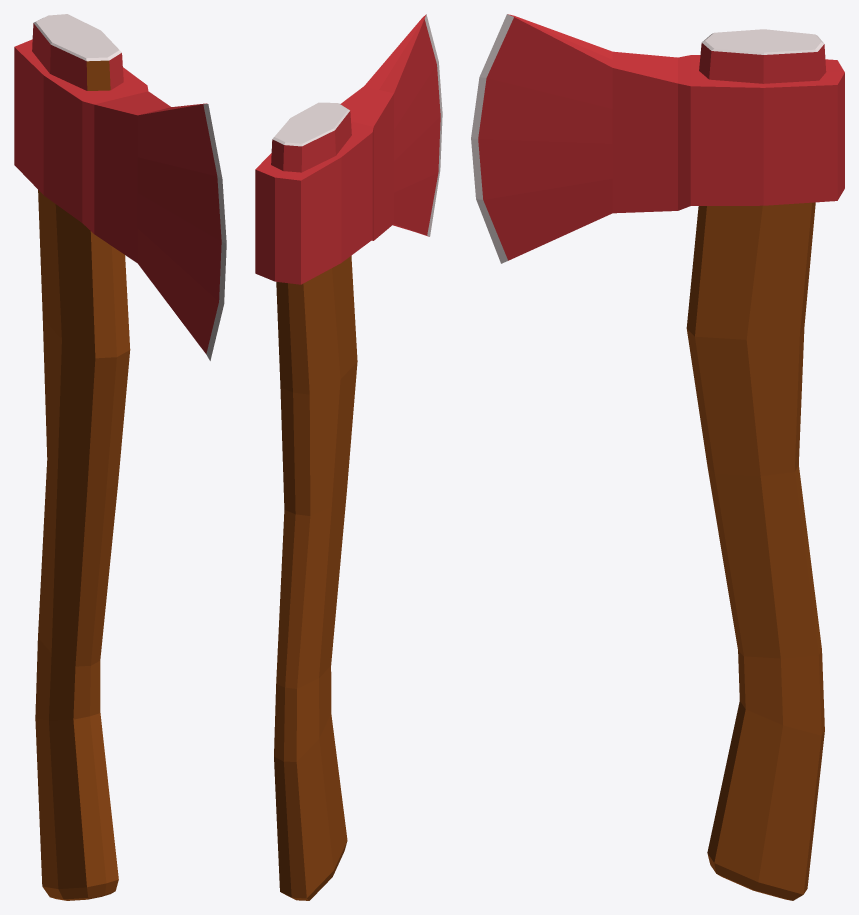
The model's file is axe.fbx.
3 views of the same model, side by side, from view 1: azimuth 30°, elevation 25°; view 2: azimuth 150°, elevation 25°; view 3: azimuth 270°, elevation 25° (orthographic). The views are drawn at different scales.
Visible parts, largest first — view 1: Cube; view 2: Cube; view 3: Cube.
Part boxes in pixels (bbox=[...]): Cube: bbox=[14, 14, 226, 900]; Cube: bbox=[255, 14, 442, 900]; Cube: bbox=[471, 14, 844, 900].
Bounding box in the file's own units: 8.04 × 101 × 38.94.
